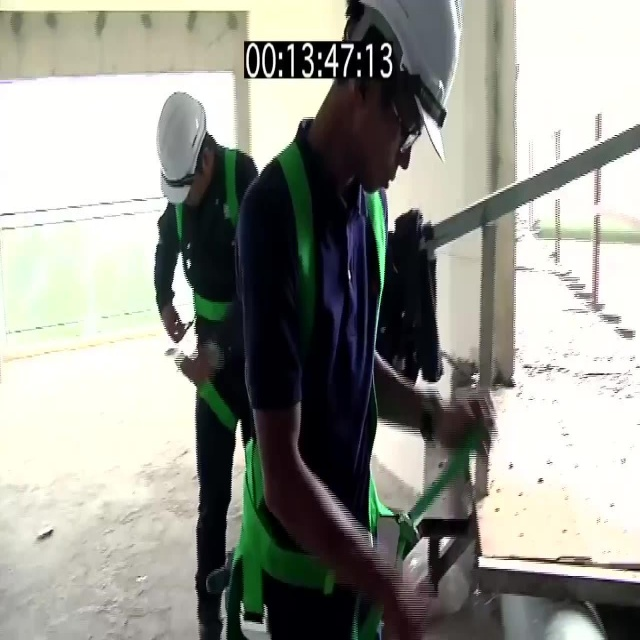Arnes_seguridad: (242, 140, 387, 624), (175, 146, 247, 424)
